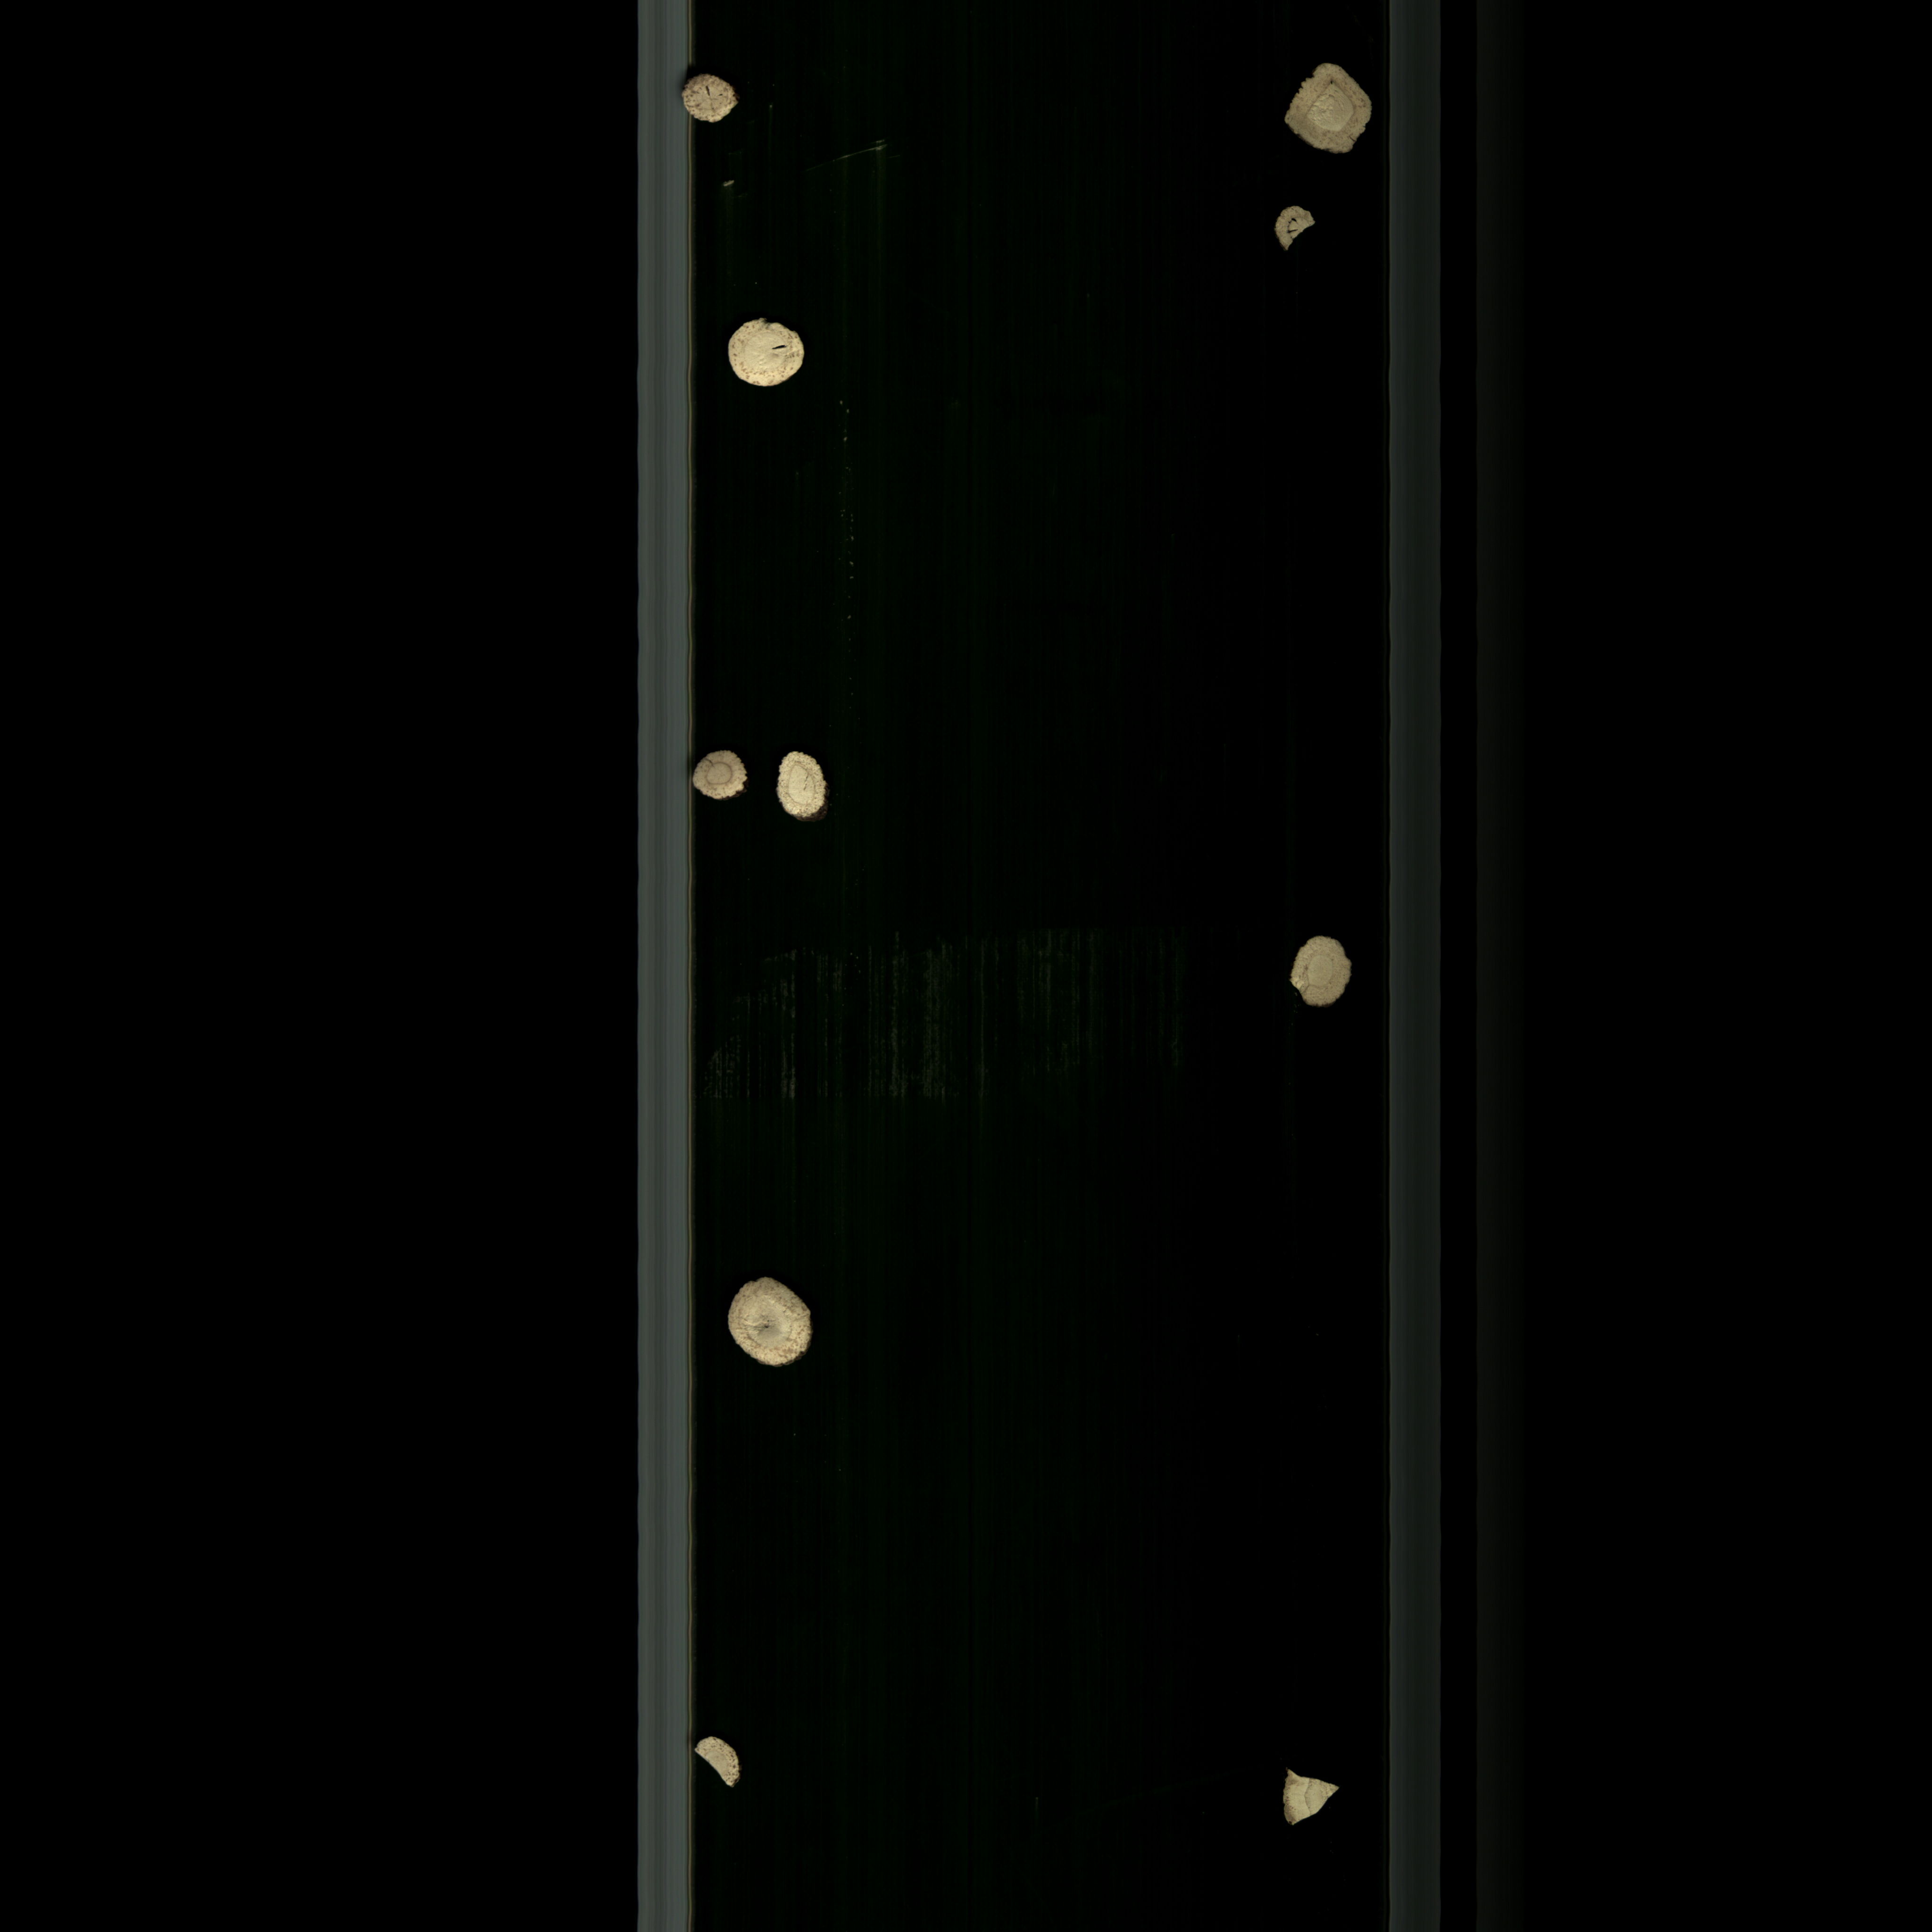dreg: (692, 1716, 771, 1810), (1270, 1759, 1352, 1849)
hole: (722, 306, 823, 407), (678, 65, 754, 140), (1270, 198, 1322, 267)
moldy: (1281, 60, 1376, 165)
